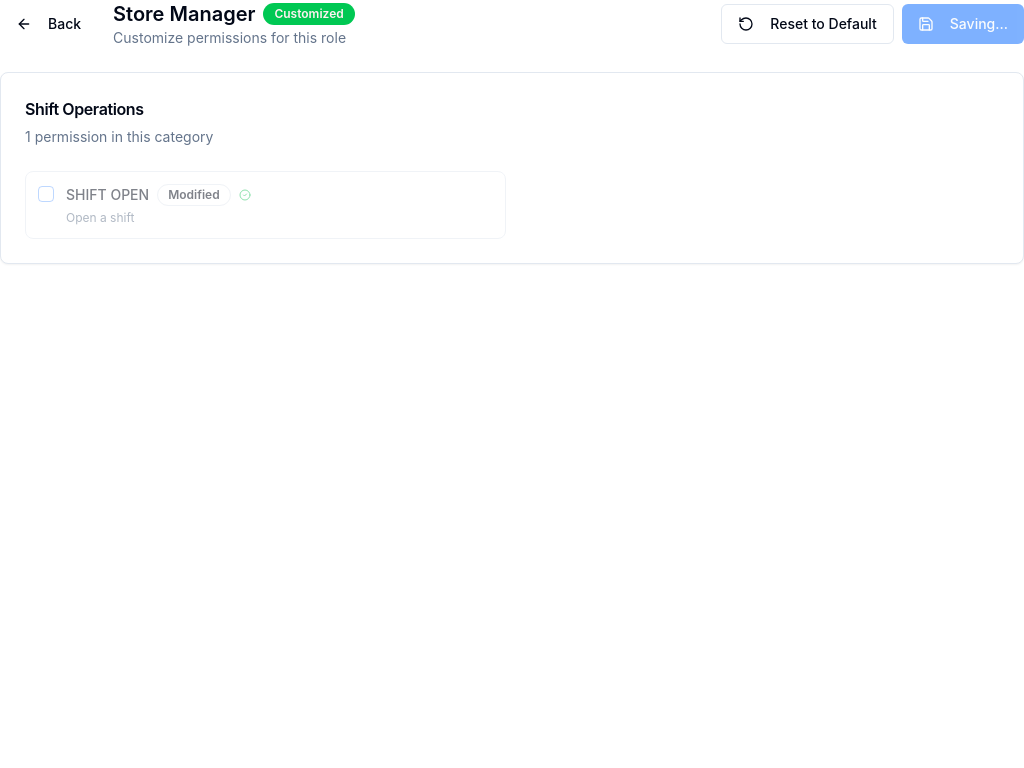
Test: 2.92-COMPONENT: RolePermissionEditor - Reset to Default › [P1] 2.92-COMPONENT-053: should cancel reset when Cancel is clicked in dialog
The width and height of the screenshot is (1024, 768).
// Open the dialog
Click the button with test id "reset-to-default-button".
click(808, 24)  # box x1=721 y1=4 x2=894 y2=44
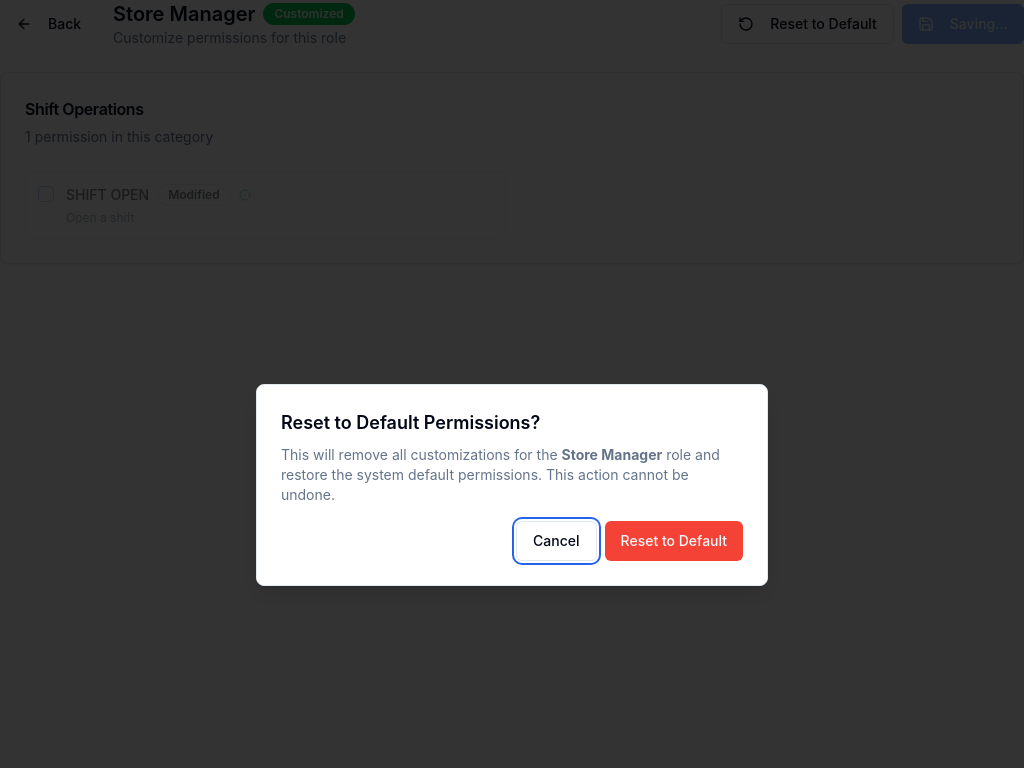
Expected: the dialog with test id "reset-confirmation-dialog" is shown, x1=256 y1=384 x2=768 y2=586
// Cancel button is clicked
Click the button with test id "reset-cancel-button".
click(556, 541)  # box x1=516 y1=521 x2=597 y2=561
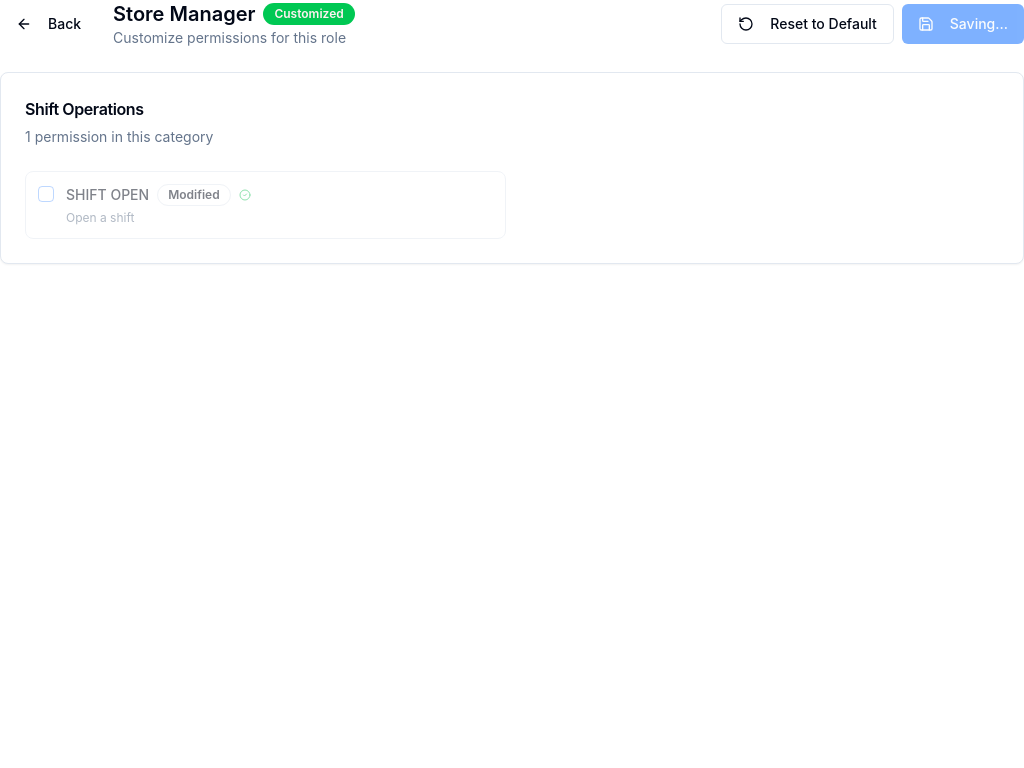
Expected: the dialog with test id "reset-confirmation-dialog" is gone
